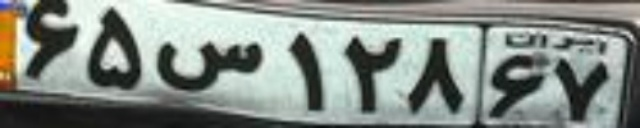1: (284, 31, 323, 110)
2: (341, 36, 403, 114)
5: (85, 5, 142, 90)
6: (20, 0, 77, 81), (482, 55, 548, 117)
7: (551, 57, 612, 121)
8: (407, 36, 470, 113)
sin: (155, 38, 267, 94)
